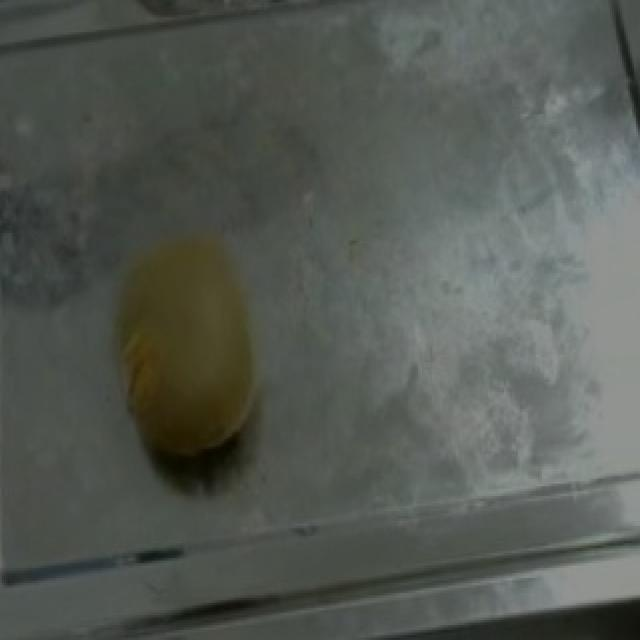Fruit: (80, 206, 282, 484)
